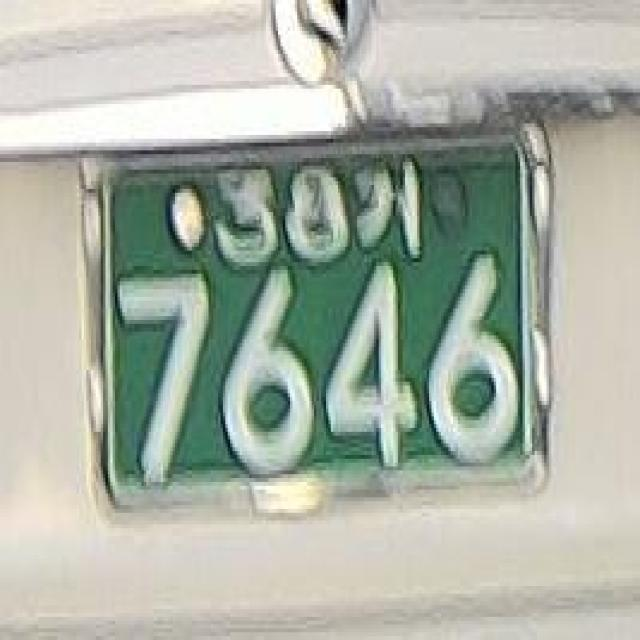illegal_plate: (68, 103, 568, 552)
